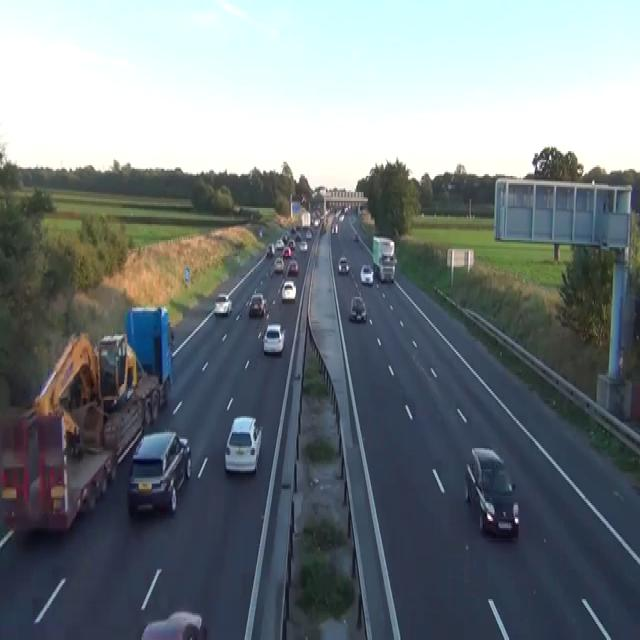Car: (127, 430, 191, 516), (464, 446, 519, 539), (224, 414, 262, 473), (140, 610, 206, 638), (262, 324, 285, 354), (348, 295, 367, 322), (377, 254, 396, 281), (214, 292, 232, 314), (248, 294, 266, 316), (281, 279, 296, 301), (359, 263, 373, 285), (337, 256, 349, 274), (273, 256, 284, 272), (287, 260, 298, 276), (168, 320, 174, 347), (282, 245, 291, 258), (266, 242, 274, 256), (312, 212, 320, 226), (281, 231, 289, 244), (275, 238, 284, 249), (299, 240, 307, 251), (287, 238, 295, 249), (447, 182, 457, 190), (331, 222, 338, 233), (319, 224, 326, 235), (305, 230, 312, 238), (313, 218, 319, 226), (353, 233, 358, 242), (295, 233, 301, 240), (334, 210, 340, 217), (291, 226, 296, 234), (339, 213, 344, 220), (259, 228, 262, 236)
Truck: (0, 304, 174, 537), (124, 304, 174, 407), (372, 235, 396, 282)
